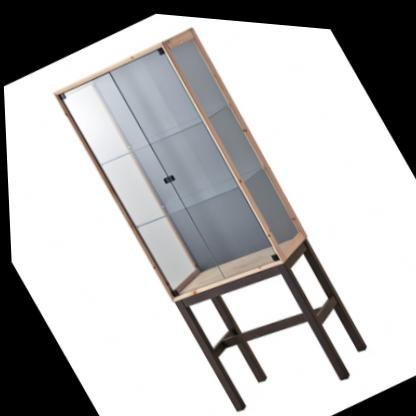Cabinet: (40, 5, 384, 416)
